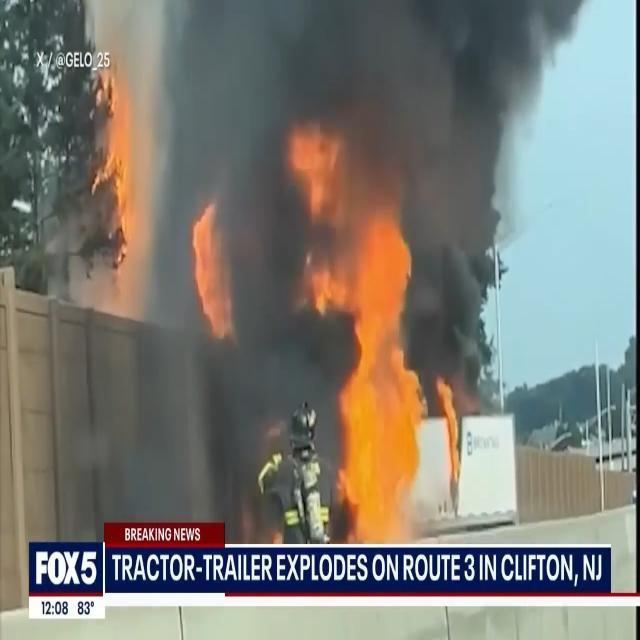fire: (284, 112, 426, 358), (334, 370, 415, 542), (74, 75, 143, 258), (190, 200, 235, 334)
